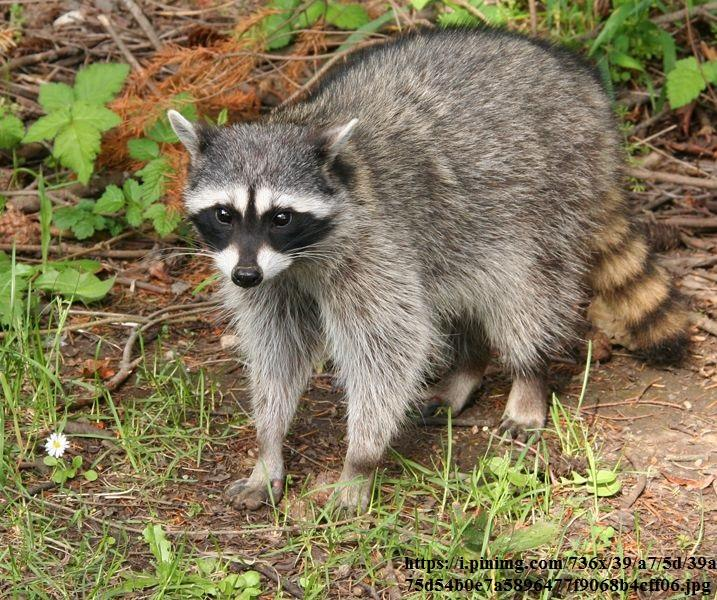raccoon: (161, 17, 717, 521)
